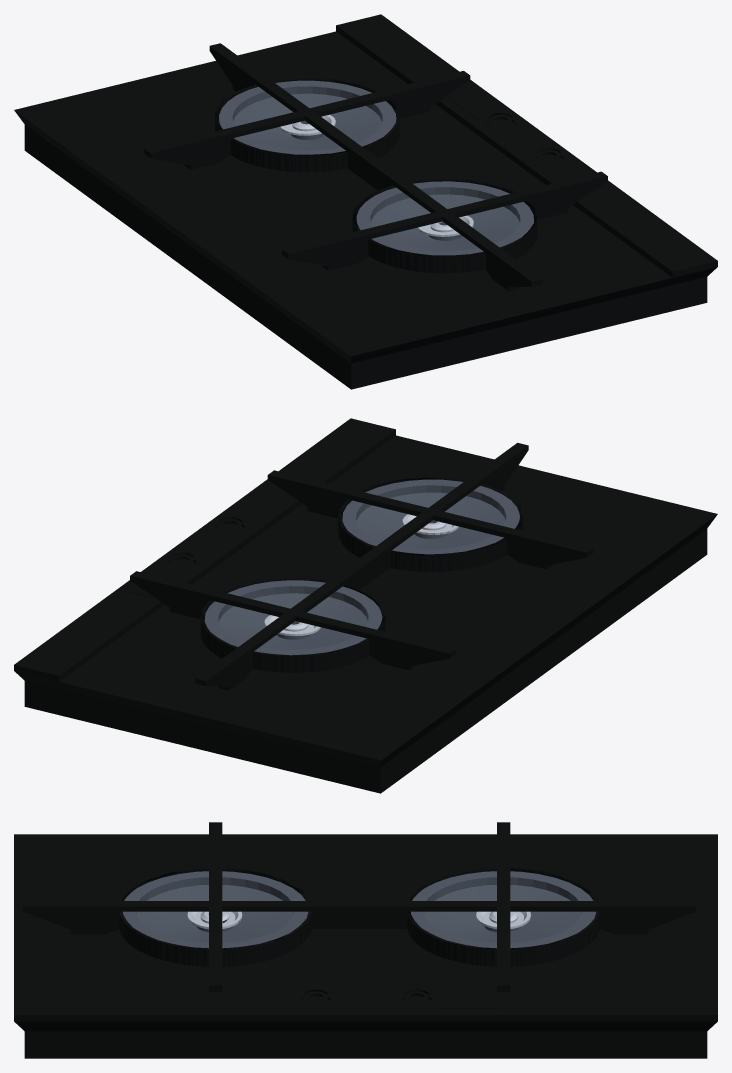
Rendered from cooker_stove.gltf.
3 views of the same model, one above another, from view 1: azimuth 30°, elevation 25°; view 2: azimuth 150°, elevation 25°; view 3: azimuth 270°, elevation 25° (orthographic). The views are drawn at different scales.
Visible parts, largest first — view 1: Circle.013; view 2: Circle.013; view 3: Circle.013.
Boxes of the visible parts, <box> form: Circle.013: <box>14,14,717,389</box>; Circle.013: <box>14,418,717,793</box>; Circle.013: <box>14,822,717,1058</box>.
Size of the model in its own units: 4.24 by 0.715 by 6.74.
Materials: 1 (1 with a texture image).
